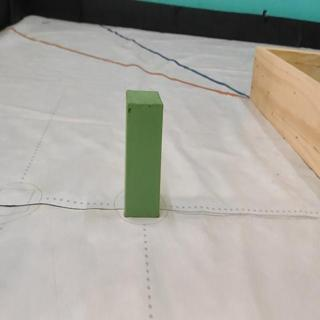greenbox: (123, 87, 163, 220)
